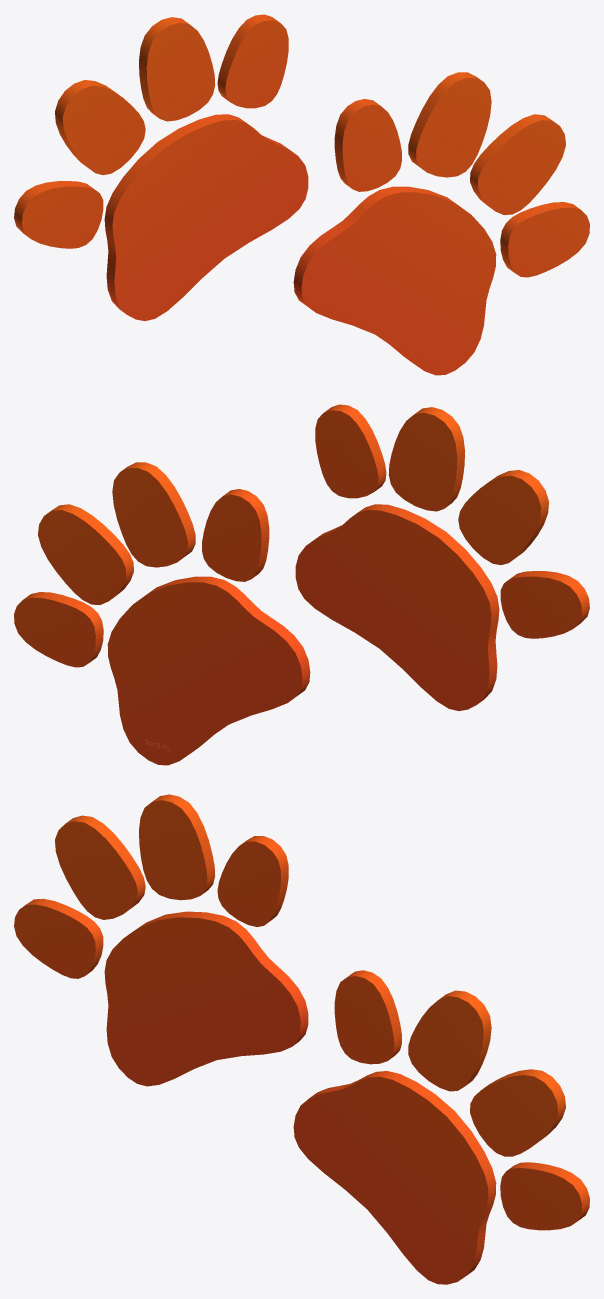
The model's file is paw_prints.gltf.
3 views of the same model, one above another, from view 1: azimuth 30°, elevation 25°; view 2: azimuth 150°, elevation 25°; view 3: azimuth 330°, elevation 25° (orthographic).
Parts seen in each view (by area): view 1: Plane.150, Plane.149; view 2: Plane.150, Plane.149; view 3: Plane.149, Plane.150.
Part boxes in pixels (x1,y1,x2,y2): Plane.150: (14,14,308,320); Plane.149: (293,72,589,375); Plane.150: (295,404,589,710); Plane.149: (14,462,310,765); Plane.149: (293,970,589,1284); Plane.150: (14,794,308,1086).
Bounding box in the file's own units: 2.21 × 1.55 × 0.0541.
2 materials, 2 textured.
